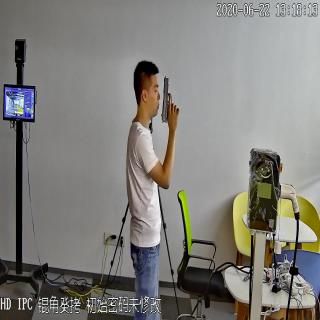gun: (161, 75, 180, 123)
